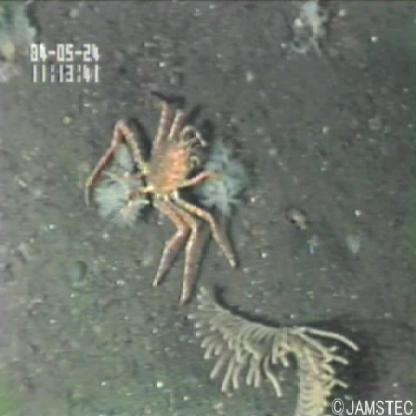Bio: (84, 92, 244, 309), (182, 280, 365, 414)
